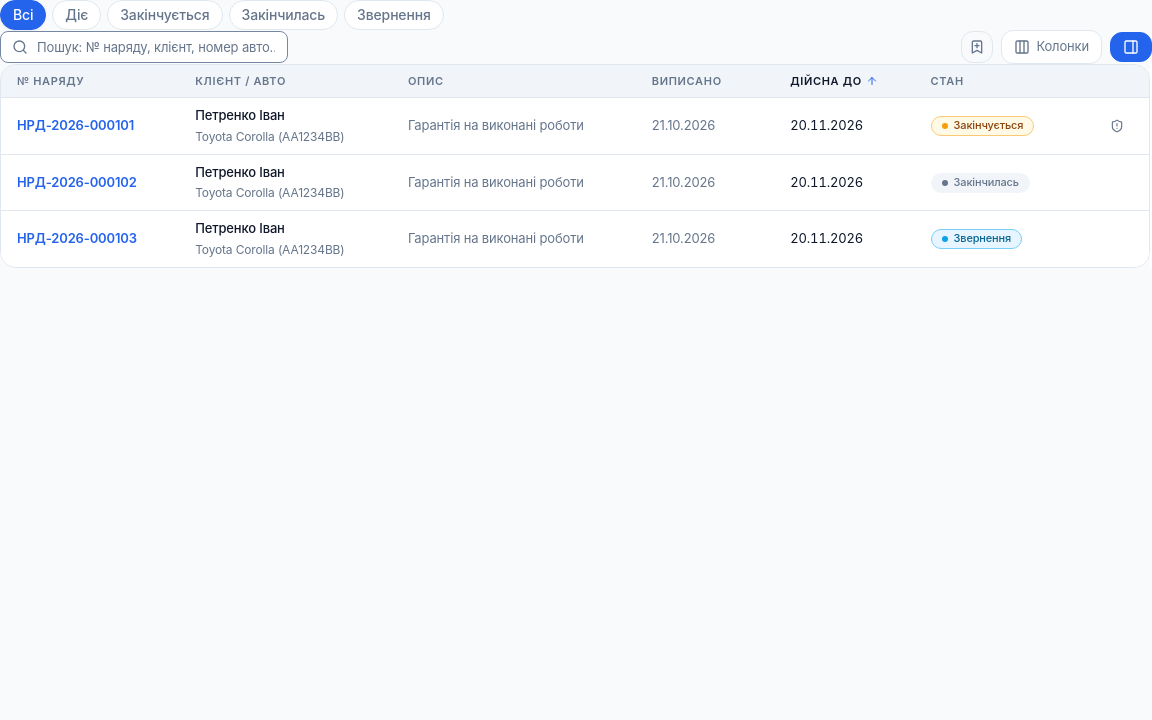
Scenario: Вкладка «Гарантії» › відмова сервера (вже використано) — текст у вікні, вікно лишається
This screenshot has width=1152, height=720.
Check: the link "НРД-2026-000101" is shown, box [17,117,134,133]
Click the button named "Звернення": (1117, 126) [1101,110,1133,142]
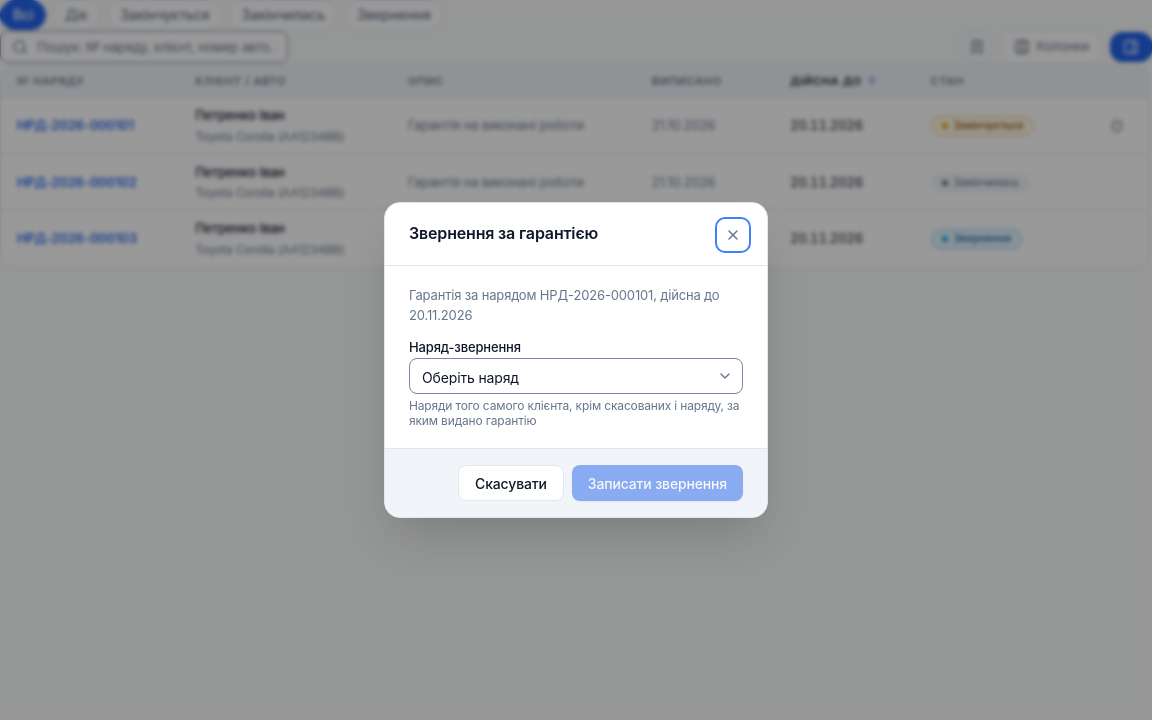
Select "НРД-2026-000200 · Чернетка · Toyota Corolla" in the dropdown labelled "Наряд-звернення": (576, 376) [409,358,743,394]
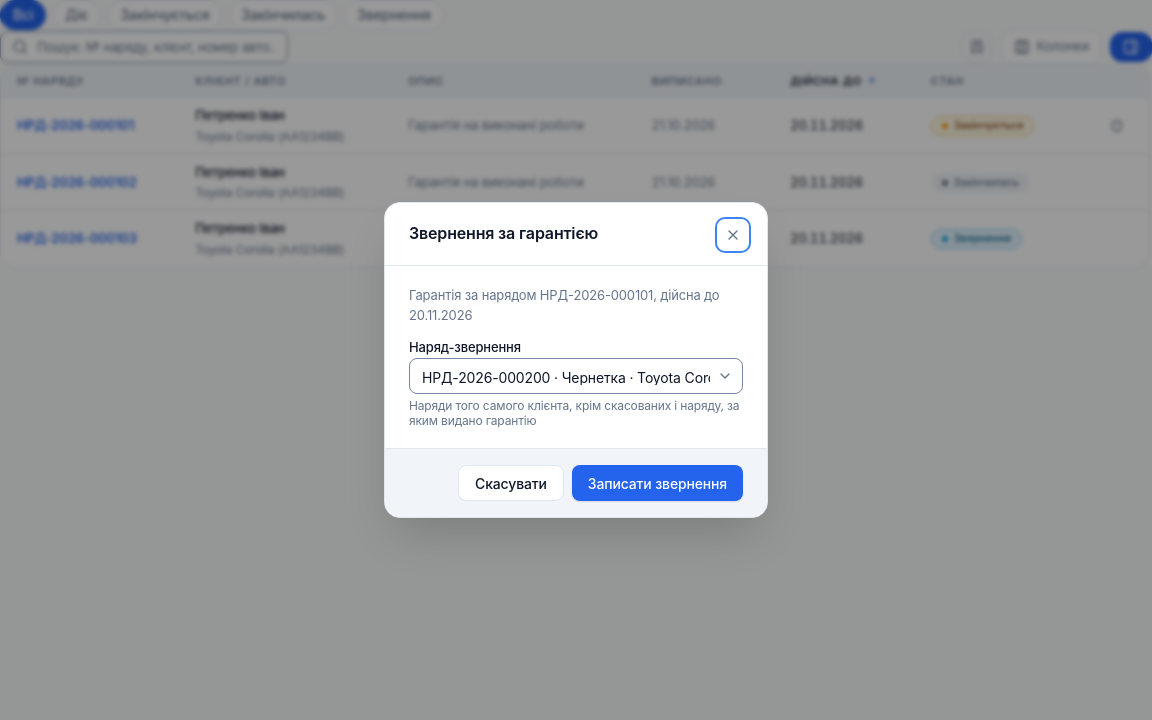
Click the button "Записати звернення": (657, 483) [572,465,743,501]
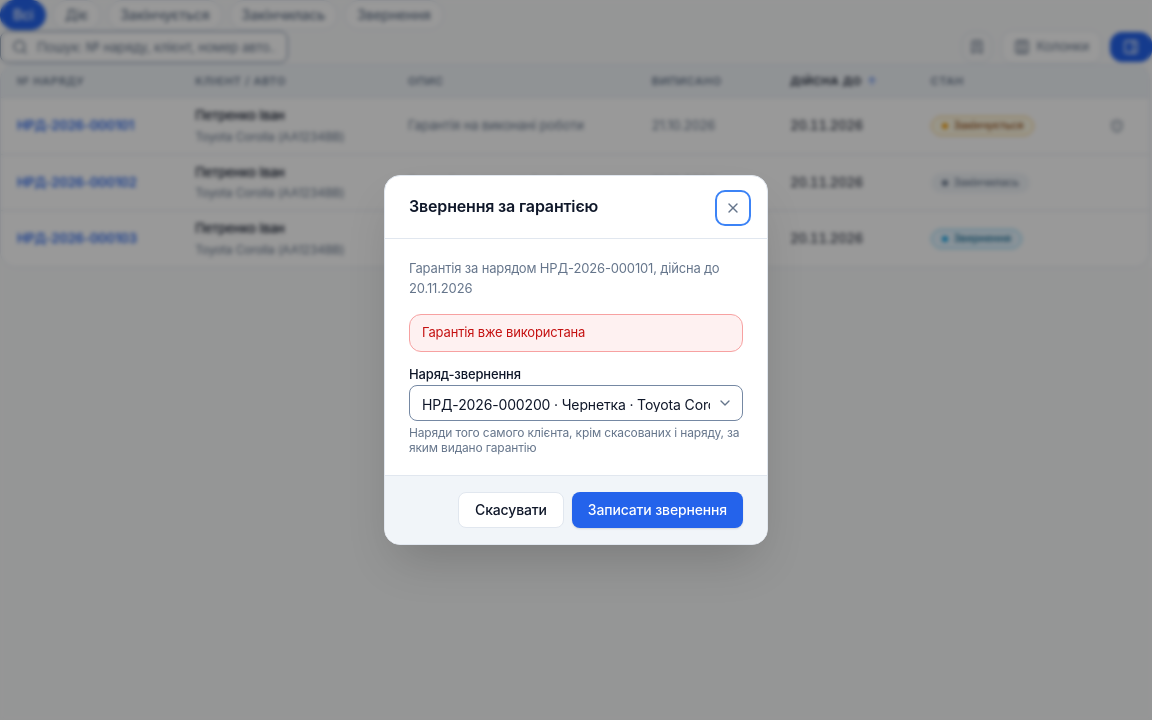
Check: the dialog "Звернення за гарантією" is shown
Check: the message reads "Гарантія вже використана", box [422,324,585,340]
